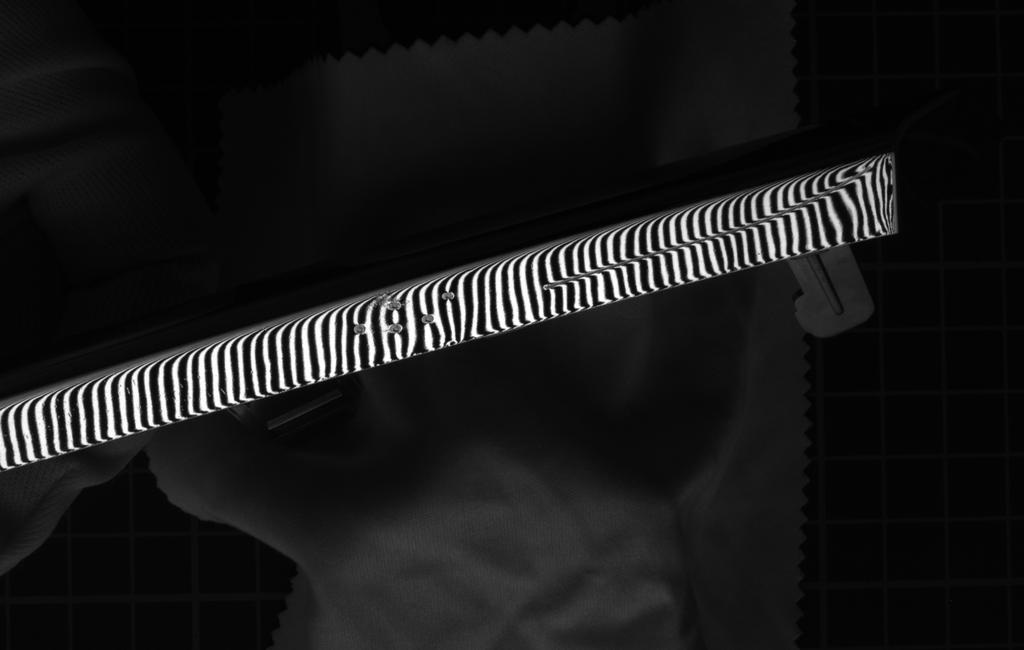Pierced: (380, 319, 407, 339), (416, 305, 436, 330), (348, 319, 371, 339), (438, 284, 456, 306), (385, 295, 405, 313)
Pitting: (367, 289, 399, 309)
Scratch: (536, 162, 880, 298)
